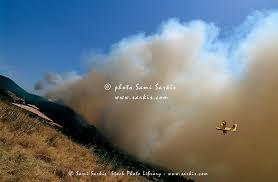yanwu: (33, 7, 278, 174)
